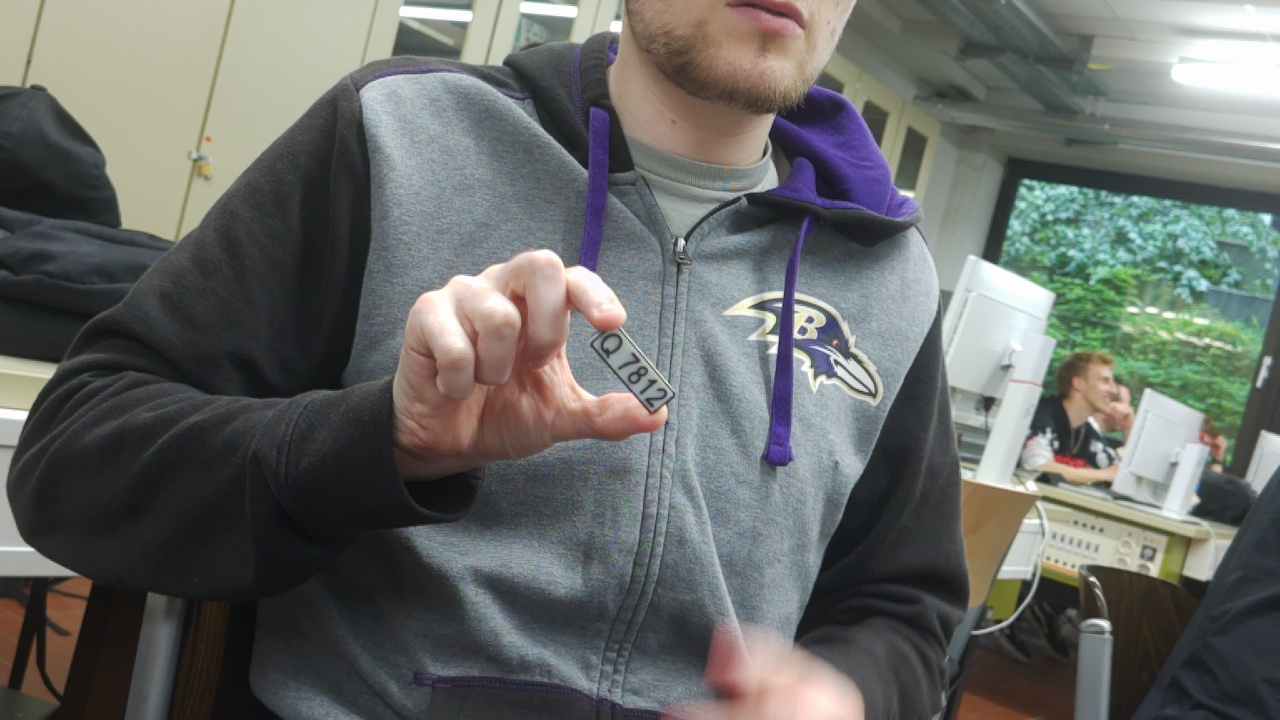license_plate: (576, 316, 686, 430)
